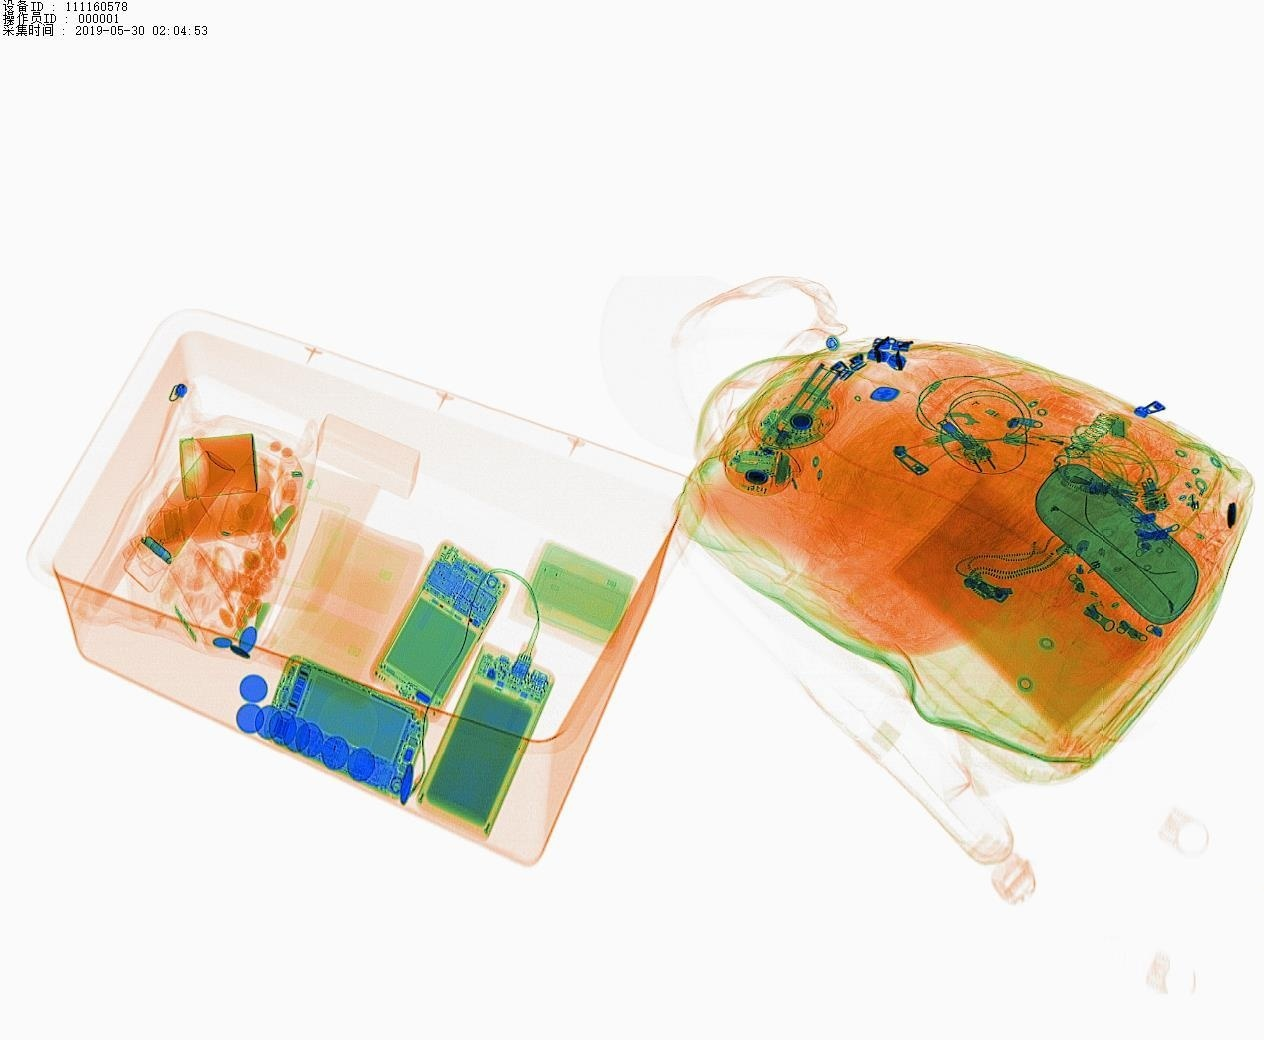NonmetallicFire: (995, 418, 1103, 462)
